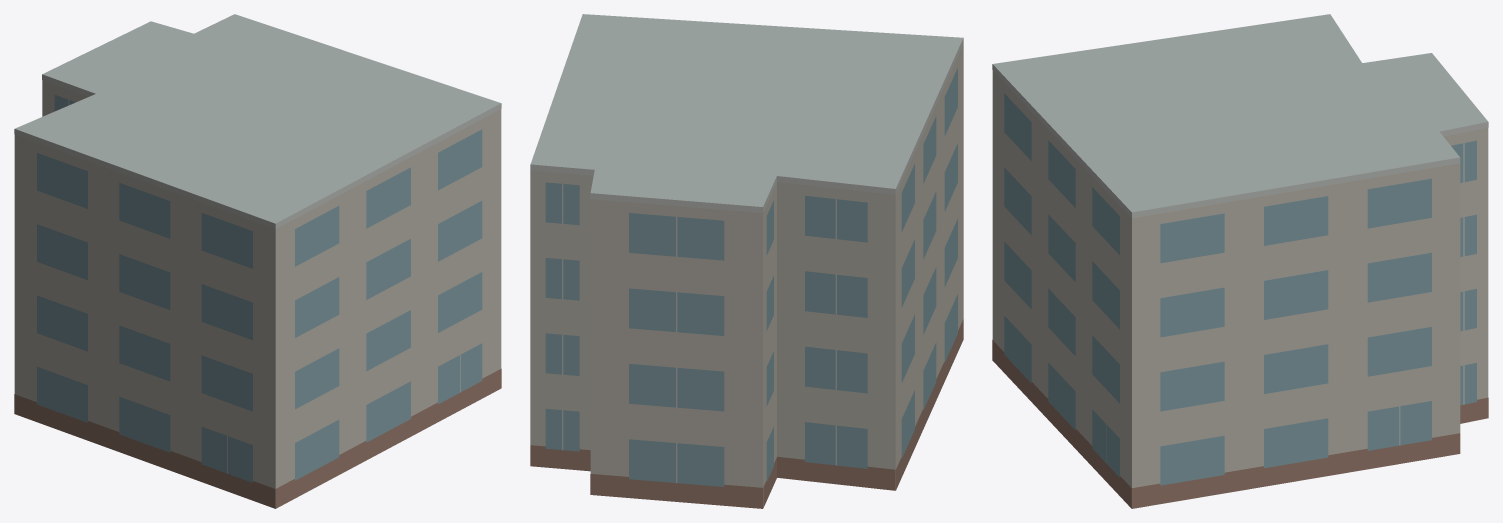
Rendered from survey-upis-32486265.glb.
3 views of the same model, side by side, from view 1: azimuth 30°, elevation 25°; view 2: azimuth 150°, elevation 25°; view 3: azimuth 270°, elevation 25° (orthographic). The views are drawn at different scales.
Visible parts, largest first — view 1: survey-upis-32486265.tmp; view 2: survey-upis-32486265.tmp; view 3: survey-upis-32486265.tmp.
Part boxes in pixels (x1,y1,x2,y2): survey-upis-32486265.tmp: (14,14,501,508); survey-upis-32486265.tmp: (530,14,963,508); survey-upis-32486265.tmp: (992,14,1488,508).
Size of the model in its own units: 17.65 by 12.28 by 18.63.
